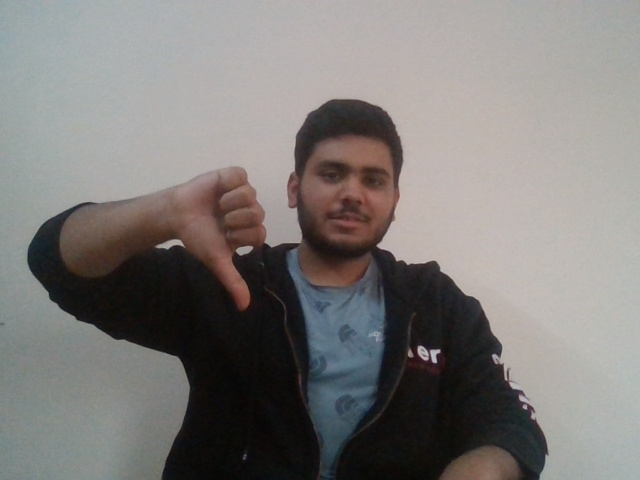No: (165, 164, 278, 314)
